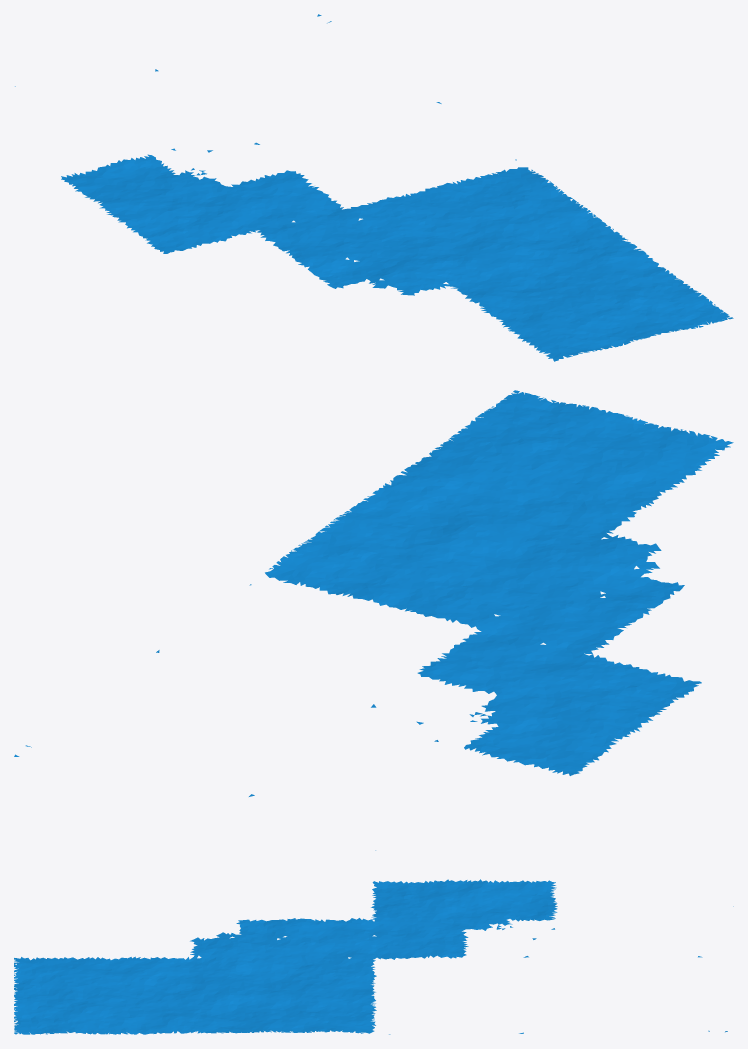
File: ChunkPrefab2.fbx
The picture shows the model from 3 angles, top to bottom: view 1: azimuth 30°, elevation 25°; view 2: azimuth 150°, elevation 25°; view 3: azimuth 270°, elevation 25°; orthographic projection. The views are drawn at different scales.
Parts seen in each view (by area): view 1: ChunkPrefab_Clone_; view 2: ChunkPrefab_Clone_; view 3: ChunkPrefab_Clone_.
Boxes of the visible parts, left/top/right/bottom form: ChunkPrefab_Clone_: left=15, top=14, right=733, bottom=361; ChunkPrefab_Clone_: left=14, top=390, right=733, bottom=850; ChunkPrefab_Clone_: left=14, top=879, right=733, bottom=1034.
Bounding box in the file's own units: 50683 × 550 × 99995.
